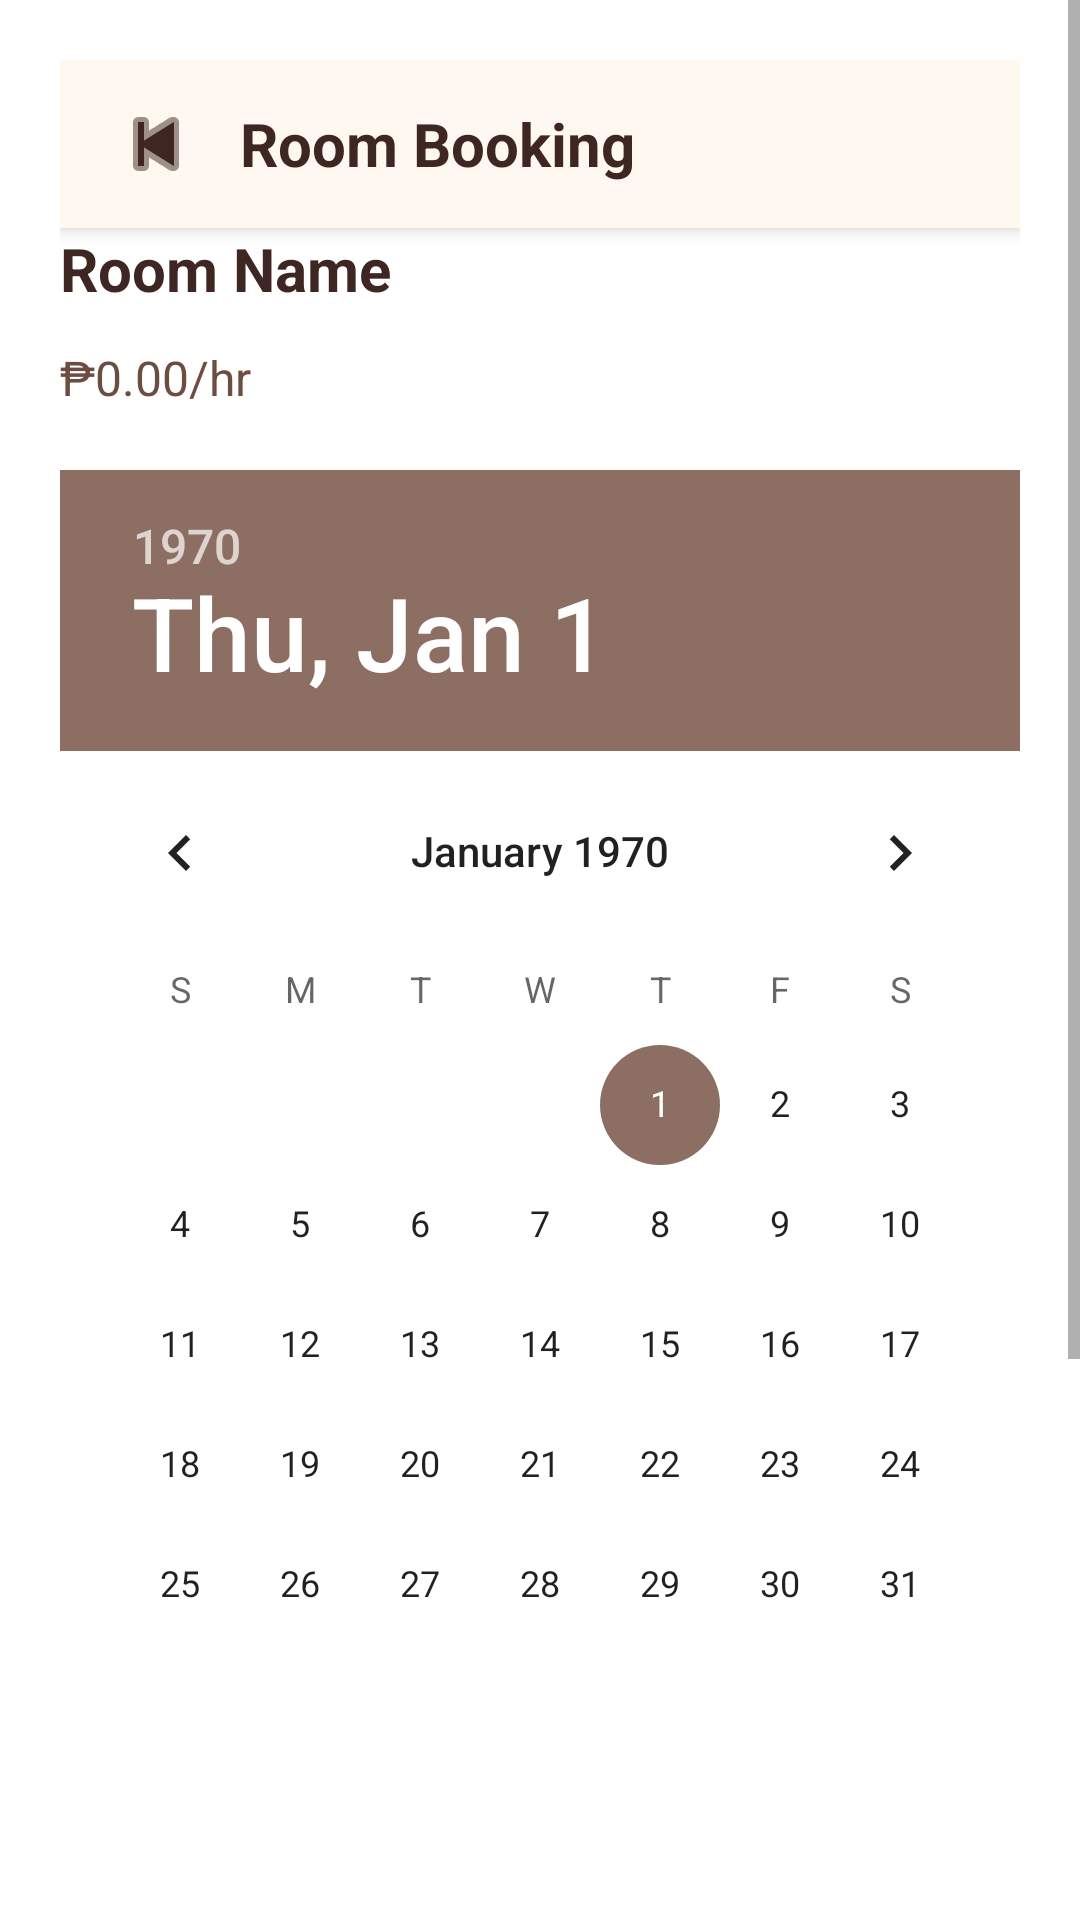

Point at icon controls on the screen. Image size 1080w x 1920h, points as (x=x, y=y).
Back: (x=156, y=144)
